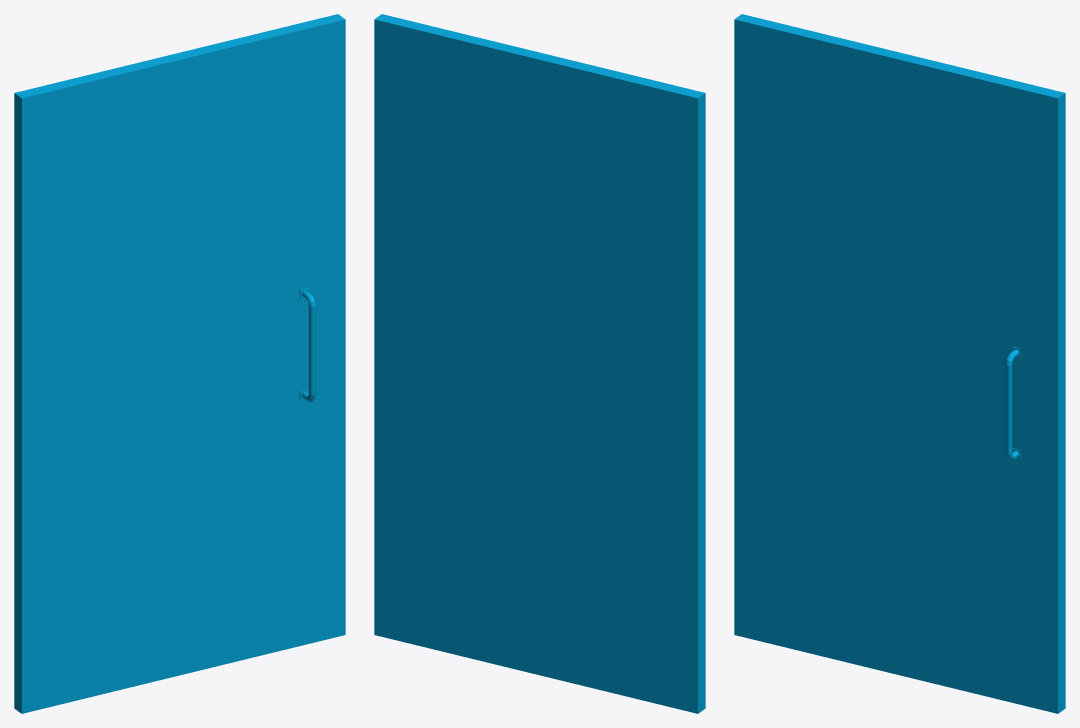
The model's file is Workbench_03_Door_02.fbx.
The picture shows the model from 3 angles, left to right: view 1: azimuth 30°, elevation 25°; view 2: azimuth 150°, elevation 25°; view 3: azimuth 330°, elevation 25°; orthographic projection.
Visible parts, largest first — view 1: Workbench_03_Door_02; view 2: Workbench_03_Door_02; view 3: Workbench_03_Door_02.
Boxes of the visible parts, bbox=[...] form: Workbench_03_Door_02: bbox=[14, 14, 345, 713]; Workbench_03_Door_02: bbox=[374, 14, 705, 713]; Workbench_03_Door_02: bbox=[734, 14, 1065, 713].
Bounding box in the file's own units: 52.88 × 96.1 × 4.86.
